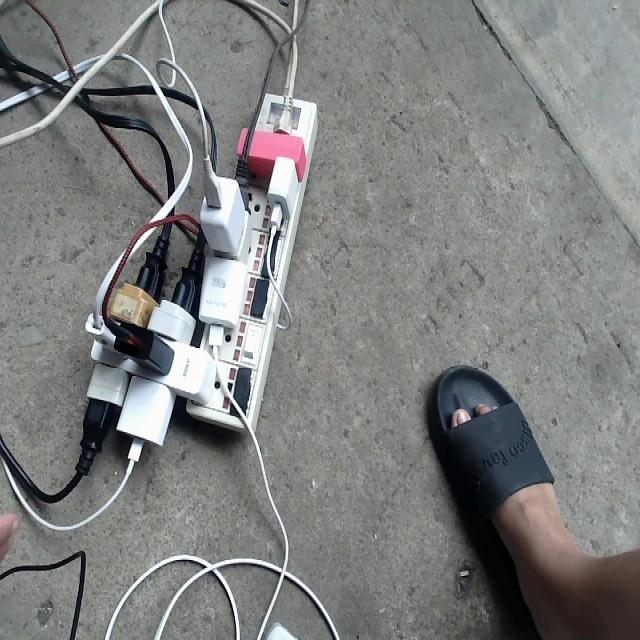-: (80, 91, 318, 429)
